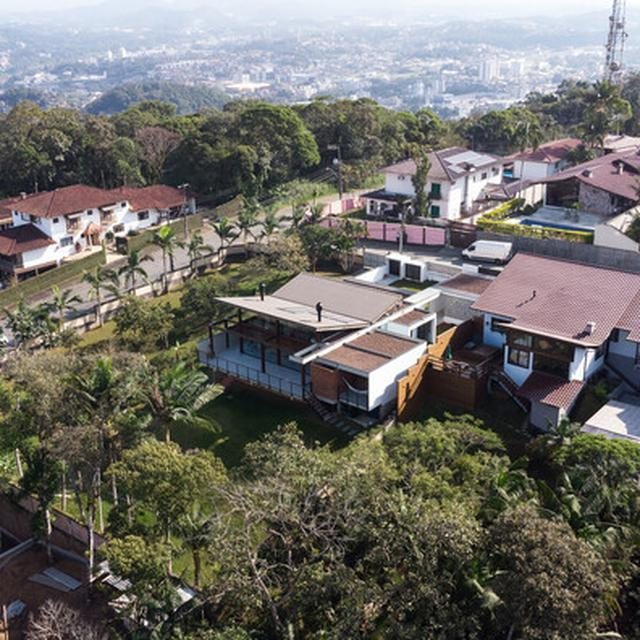building: (206, 239, 458, 415), (471, 232, 640, 464), (3, 168, 190, 268), (513, 126, 640, 262), (346, 134, 502, 241)
